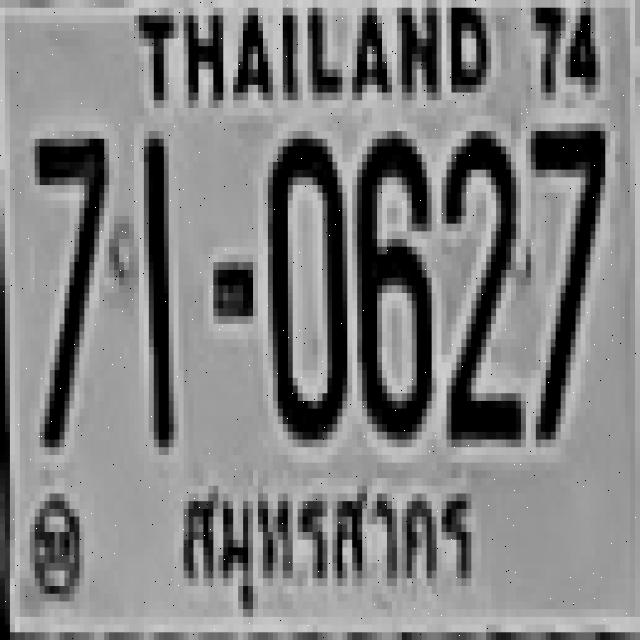0: (268, 132, 342, 432)
1: (142, 135, 172, 443)
2: (442, 127, 516, 436)
6: (352, 132, 427, 432)
7: (526, 124, 600, 432), (30, 132, 104, 440)
SamutSakhon: (161, 466, 484, 632)
